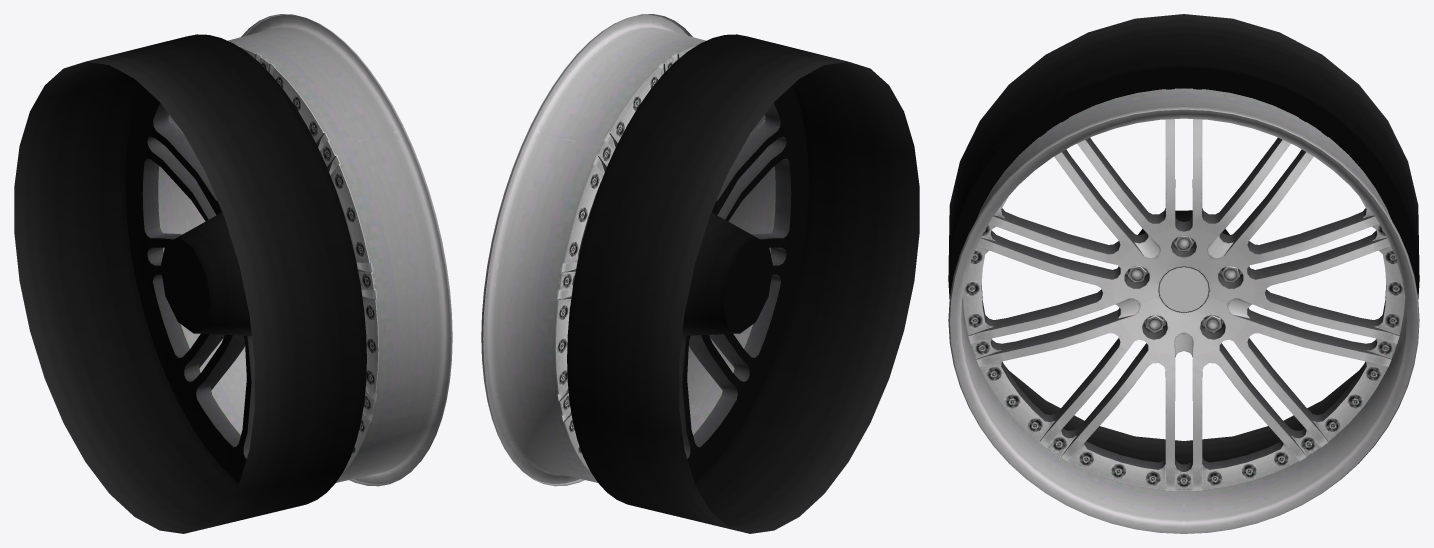
The model's file is wheel51.fbx.
3 views of the same model, side by side, from view 1: azimuth 30°, elevation 25°; view 2: azimuth 150°, elevation 25°; view 3: azimuth 270°, elevation 25° (orthographic). The views are drawn at different scales.
Visible parts, largest first — view 1: ifo_fabulous_wheel_wheel_inner_rim_, wheel_rim, ifo_fabulous_wheel_wheel_chrome_rim_; view 2: ifo_fabulous_wheel_wheel_inner_rim_, wheel_rim, ifo_fabulous_wheel_wheel_chrome_rim_; view 3: ifo_fabulous_wheel_wheel_chrome_rim_, ifo_fabulous_wheel_wheel_inner_rim_, wheel_rim, ifo_fabulous_wheel_wheel_wheel_emblem_.
Part boxes in pixels (x1,y1,x2,y2): ifo_fabulous_wheel_wheel_inner_rim_: (14, 34, 366, 533); wheel_rim: (158, 14, 452, 486); ifo_fabulous_wheel_wheel_chrome_rim_: (142, 15, 450, 483); ifo_fabulous_wheel_wheel_inner_rim_: (567, 34, 919, 533); wheel_rim: (481, 14, 775, 486); ifo_fabulous_wheel_wheel_chrome_rim_: (483, 15, 791, 483); ifo_fabulous_wheel_wheel_chrome_rim_: (950, 91, 1411, 533); ifo_fabulous_wheel_wheel_inner_rim_: (948, 14, 1419, 464); wheel_rim: (948, 88, 1419, 533); ifo_fabulous_wheel_wheel_wheel_emblem_: (1158, 266, 1209, 312).
Bounding box in the file's own units: 0.227 × 0.48 × 0.4799.
1 material, 1 textured.
